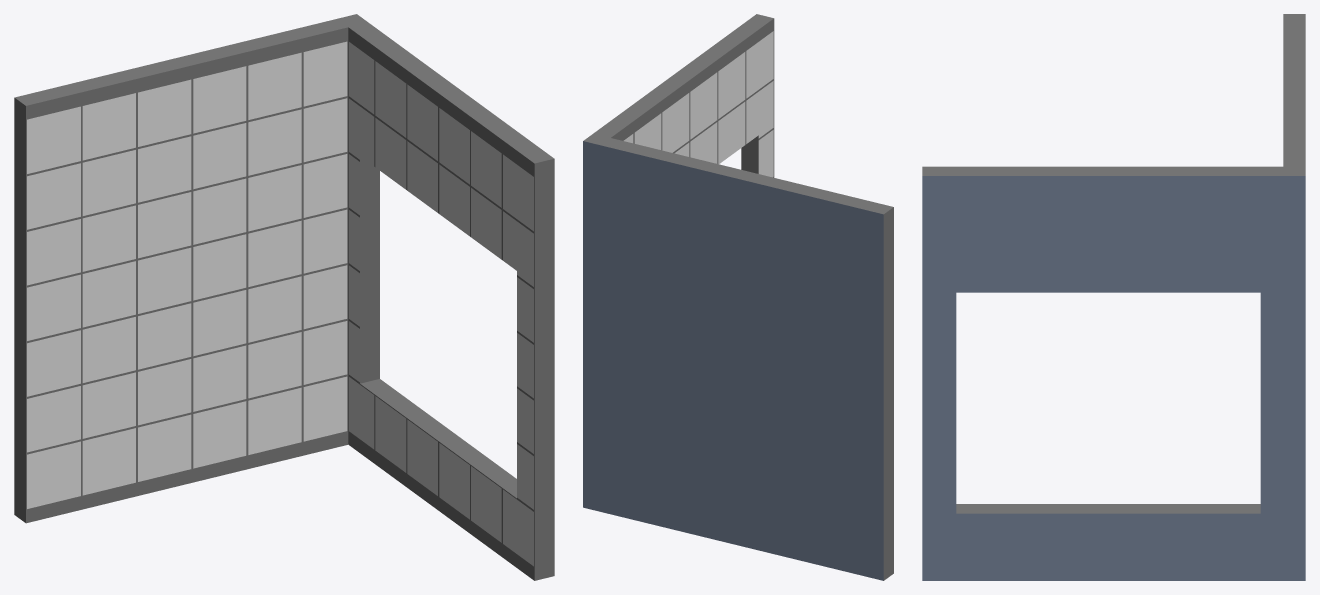
Rendered from Wall3_C7_14.fbx.
3 renders of one model, left to right at view 1: azimuth 30°, elevation 25°; view 2: azimuth 150°, elevation 25°; view 3: azimuth 270°, elevation 25°, orthographic. The views are drawn at different scales.
Parts seen in each view (by area): view 1: Wall3_C7_14; view 2: Wall3_C7_14; view 3: Wall3_C7_14.
Part boxes in pixels (x1=…): Wall3_C7_14: x1=14, y1=14, x2=554, y2=580; Wall3_C7_14: x1=583, y1=14, x2=893, y2=580; Wall3_C7_14: x1=922, y1=14, x2=1305, y2=580.
Size of the model in its own units: 258 by 300 by 258.
